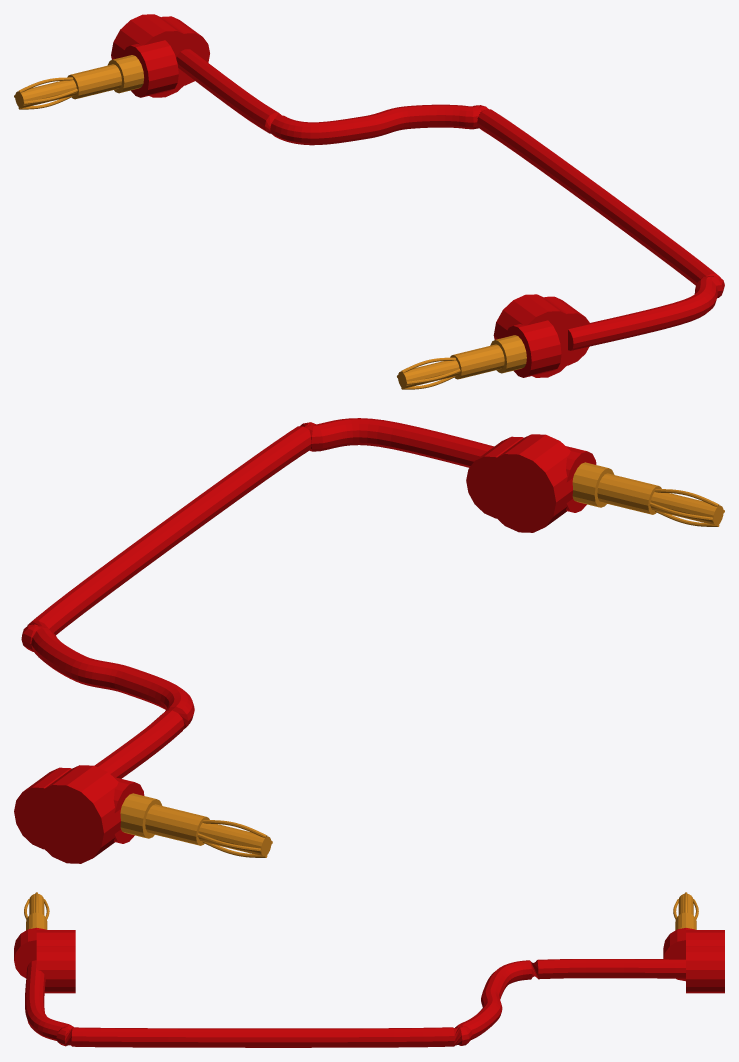
File: Red_Cable_RightAngle.fbx
3 views of the same model, one above another, from view 1: azimuth 30°, elevation 25°; view 2: azimuth 150°, elevation 25°; view 3: azimuth 270°, elevation 25° (orthographic). The views are drawn at different scales.
Visible parts, largest first — view 1: Red_Cable_RightAngle; view 2: Red_Cable_RightAngle; view 3: Red_Cable_RightAngle.
Boxes of the visible parts, <box> form: Red_Cable_RightAngle: <box>14,14,724,389</box>; Red_Cable_RightAngle: <box>14,418,724,863</box>; Red_Cable_RightAngle: <box>14,892,724,1047</box>.
Bounding box in the file's own units: 10.35 × 21.9 × 1.9.
